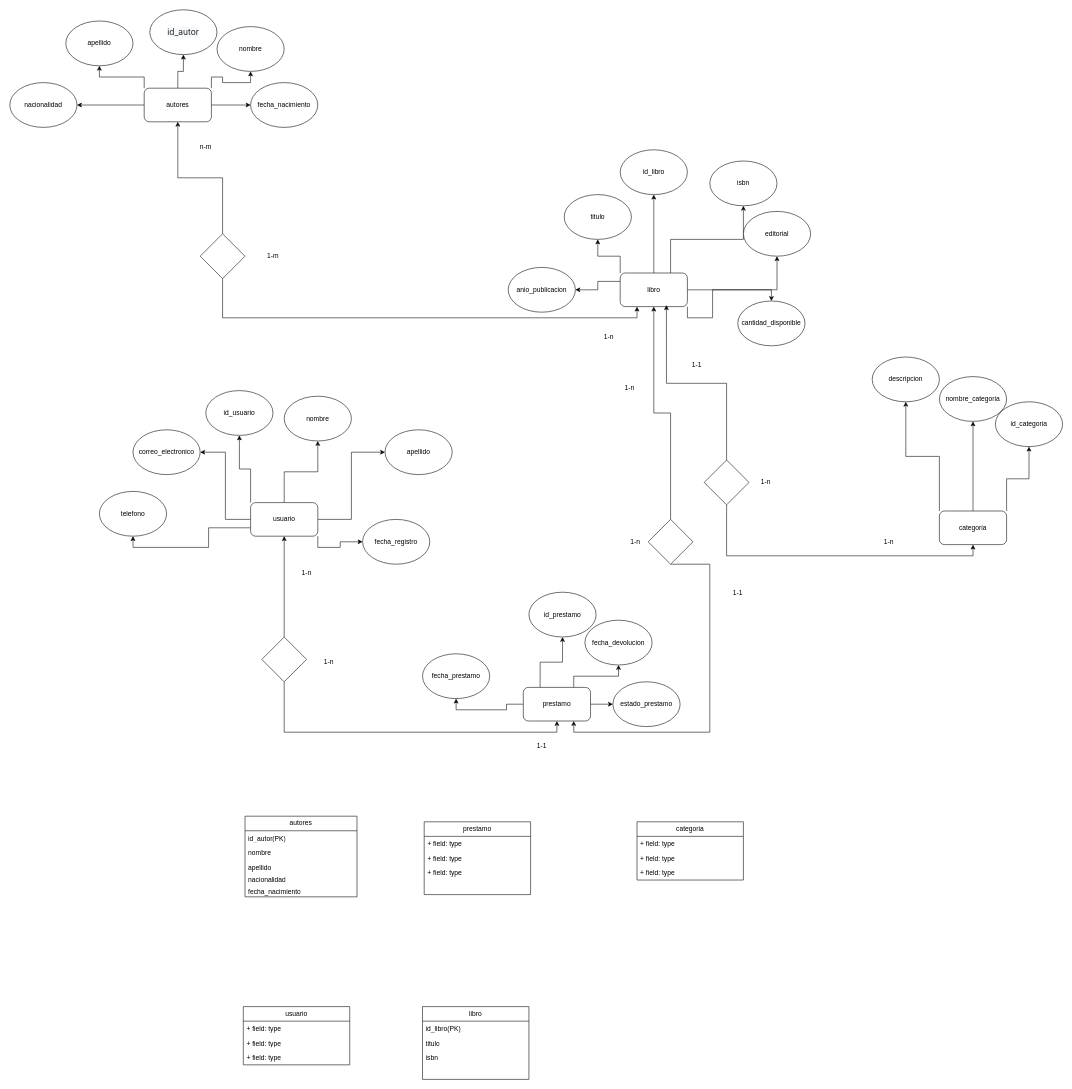
Image size: 1072x1089. Some labels were removed from this diagram. Here are the shapes that lost their labels. From the top down, the centre of each, then its label:
At pixel 222 256: "escribir".
At pixel 726 482: "pertenece".
At pixel 670 541: "contiene".
At pixel 284 659: "solicitar".
